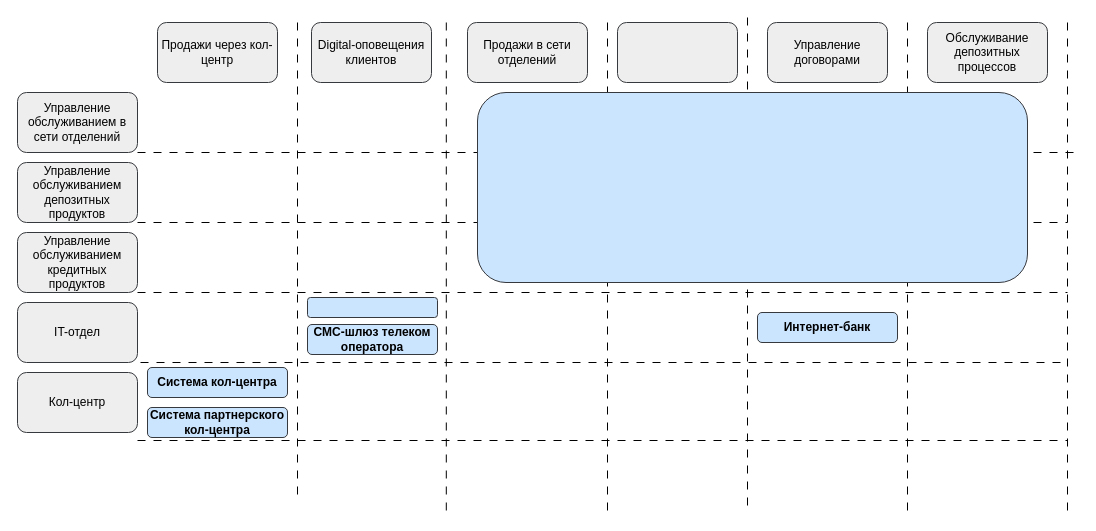
Image size: 1096x531. Some labels were removed from this diagram. The shapes that lost their labels are listed below. From the top down, each one's box as (x1, y1, x2, y2) in pixels, then its label:
(616, 22, 738, 82): Обслуживание кредитных процессов
(476, 92, 1028, 282): АБС
(306, 296, 438, 318): Сайт
